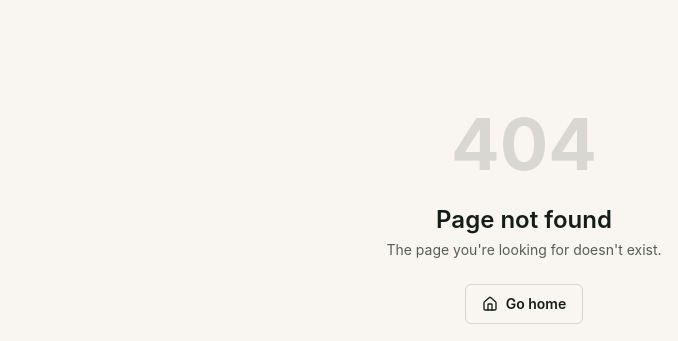
Test: route error recovery › explains a missing project as a 404 and lets the user return home
Check: the heading "Page not found" is shown, box 436,205 -> 612,234
Click the link "Go home" at x=524, y=304, box 465,284 -> 583,324
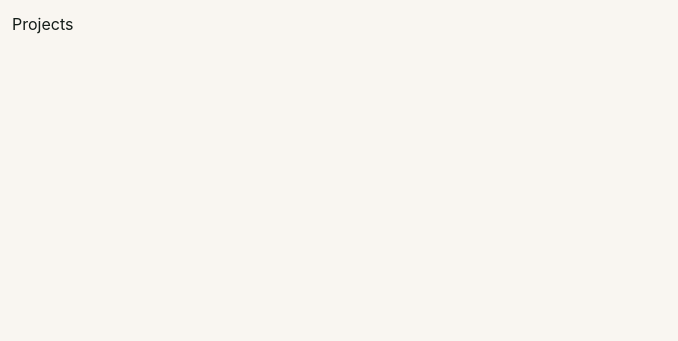
Check: the heading "Projects" is shown, box 12,14 -> 73,34
